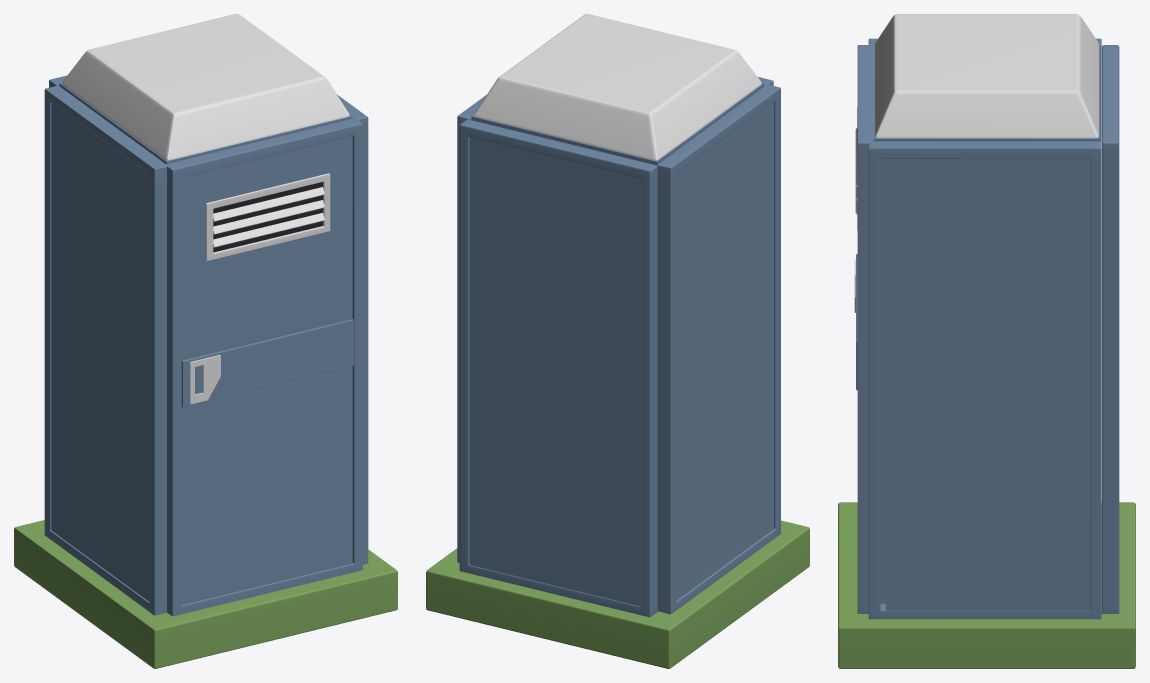
The model's file is temporary_toilet_high.fbx.
3 renders of one model, left to right at view 1: azimuth 30°, elevation 25°; view 2: azimuth 150°, elevation 25°; view 3: azimuth 270°, elevation 25°, orthographic. The views are drawn at different scales.
Visible parts, largest first — view 1: pCube25; view 2: pCube25; view 3: pCube25.
Boxes of the visible parts, x1,y1,x2,y2 form: pCube25: (14, 14, 397, 668); pCube25: (426, 14, 809, 668); pCube25: (838, 14, 1135, 668).
Bounding box in the file's own units: 130 × 267 × 130.
